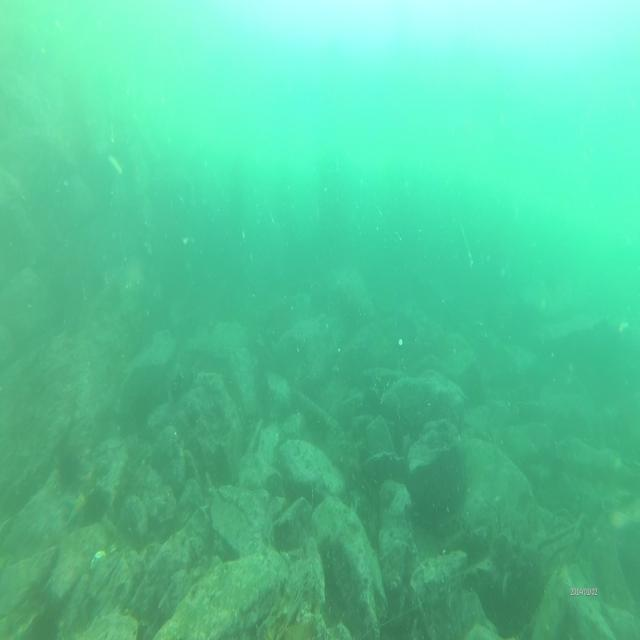echinus: (57, 442, 84, 484), (85, 485, 109, 523)
starfish: (66, 487, 89, 528)
